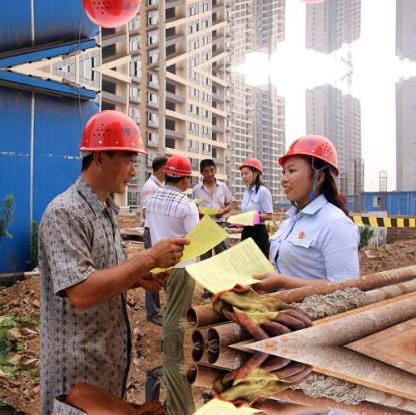No Safety Helmet: (196, 158, 221, 189), (146, 153, 168, 184)
Safety Helmet: (73, 106, 141, 203), (277, 131, 342, 209), (162, 151, 194, 196), (235, 157, 266, 192)
